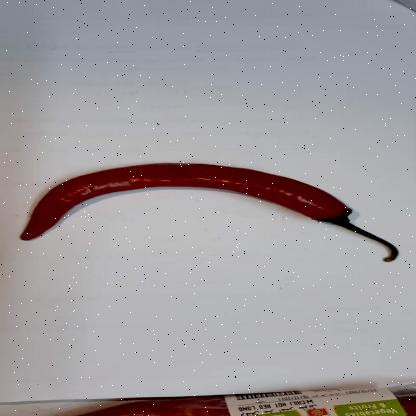chili: (21, 160, 392, 278)
